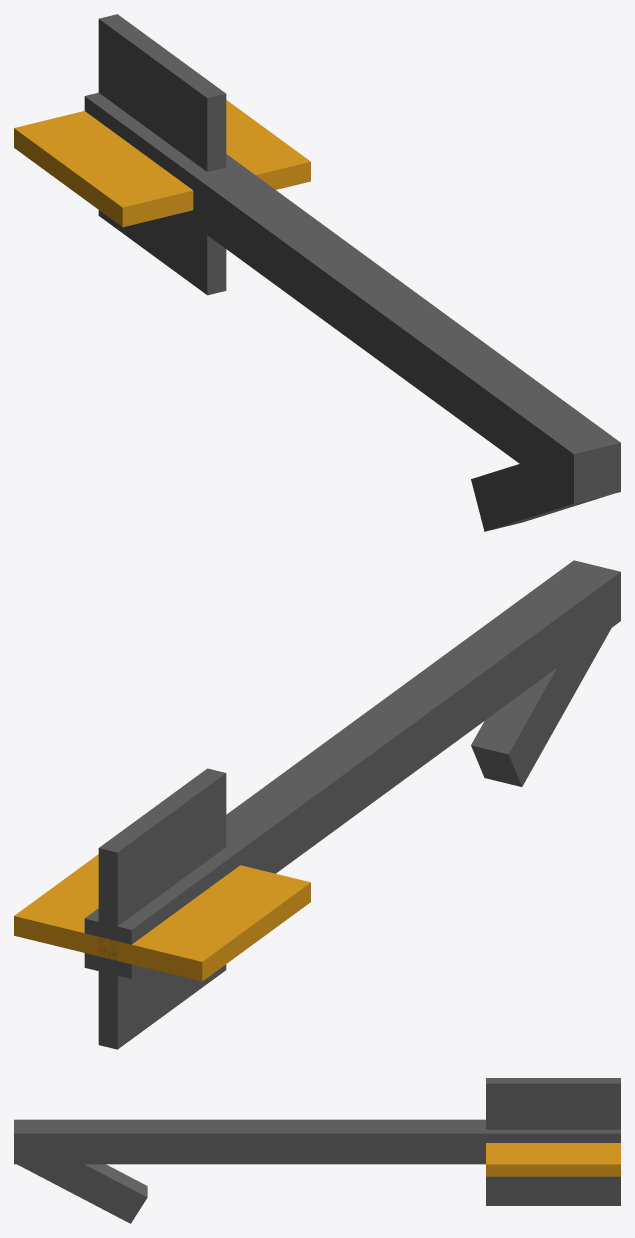
The model's file is FirstArrowA.fbx.
3 views of the same model, one above another, from view 1: azimuth 30°, elevation 25°; view 2: azimuth 150°, elevation 25°; view 3: azimuth 270°, elevation 25° (orthographic). The views are drawn at different scales.
Parts seen in each view (by area): view 1: Cube.001, Cube.005, Cube.003, Cube.006, Cube.002, Cube.004; view 2: Cube.001, Cube.005, Cube.003, Cube.002, Cube.006, Cube.004; view 3: Cube.001, Cube.005, Cube.004, Cube.006, Cube.002.
Part boxes in pixels (left/top/right/bottom): Cube.001: left=84, top=92, right=620, bottom=503; Cube.005: left=98, top=14, right=226, bottom=171; Cube.003: left=14, top=111, right=193, bottom=227; Cube.006: left=98, top=210, right=226, bottom=295; Cube.002: left=471, top=464, right=615, bottom=531; Cube.004: left=226, top=100, right=310, bottom=189; Cube.001: left=84, top=560, right=620, bottom=978; Cube.005: left=98, top=768, right=226, bottom=948; Cube.003: left=108, top=865, right=310, bottom=981; Cube.002: left=471, top=628, right=611, bottom=786; Cube.006: left=98, top=947, right=226, bottom=1049; Cube.004: left=14, top=854, right=107, bottom=958; Cube.001: left=14, top=1119, right=620, bottom=1164; Cube.005: left=486, top=1078, right=620, bottom=1129; Cube.004: left=486, top=1143, right=620, bottom=1176; Cube.006: left=486, top=1176, right=620, bottom=1205; Cube.002: left=17, top=1164, right=147, bottom=1223.
Size of the model in its own units: 40 by 44.97 by 180.
